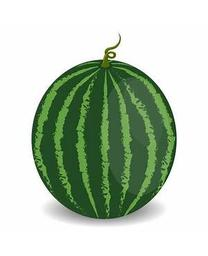watermelon: (30, 60, 177, 221)
